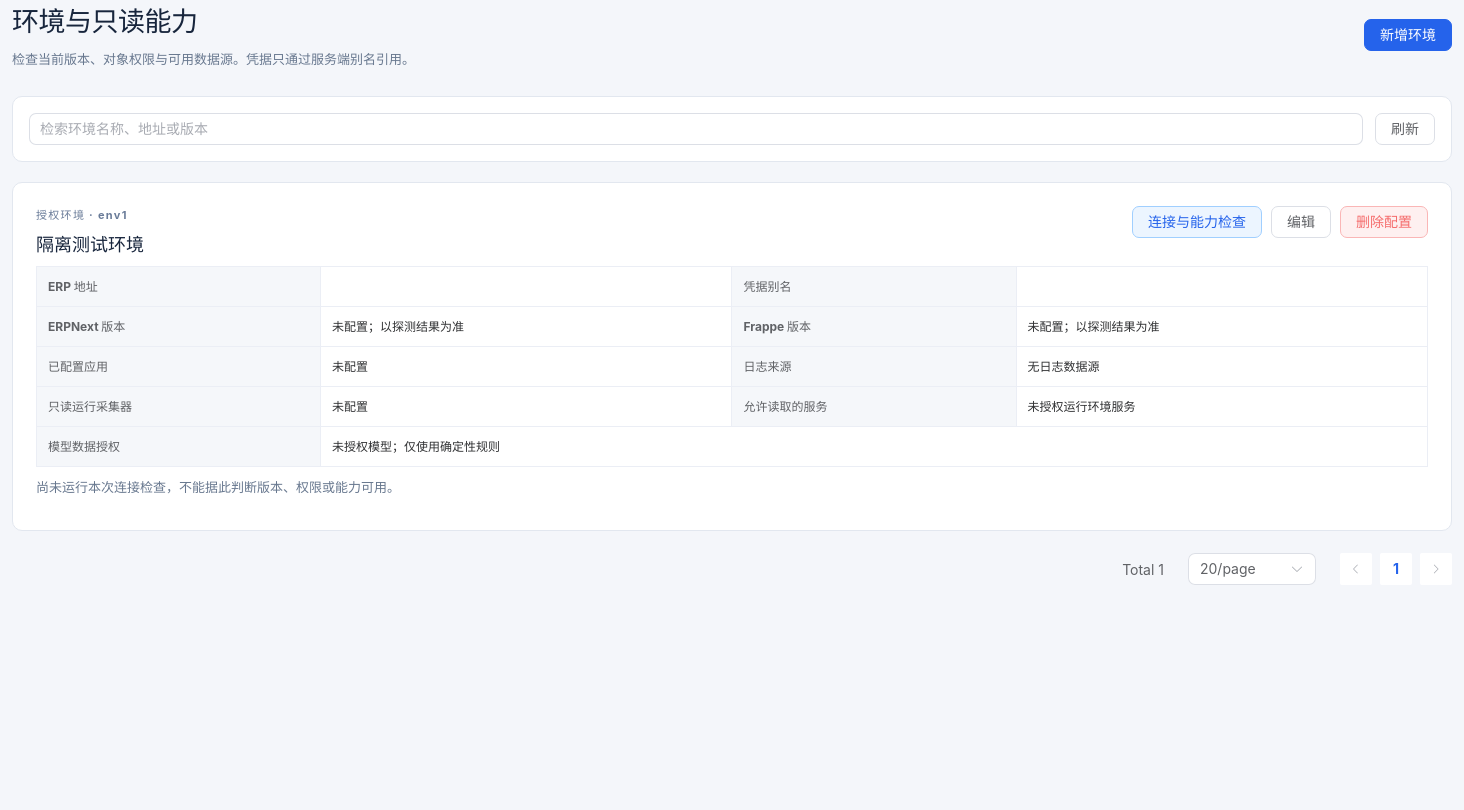
Test case: three list workspaces with mocked HTTP › retains an environment check 403 separately from environment configuration
Click the button "连接与能力检查". click: (1197, 222)
box: [1132,206,1262,238]
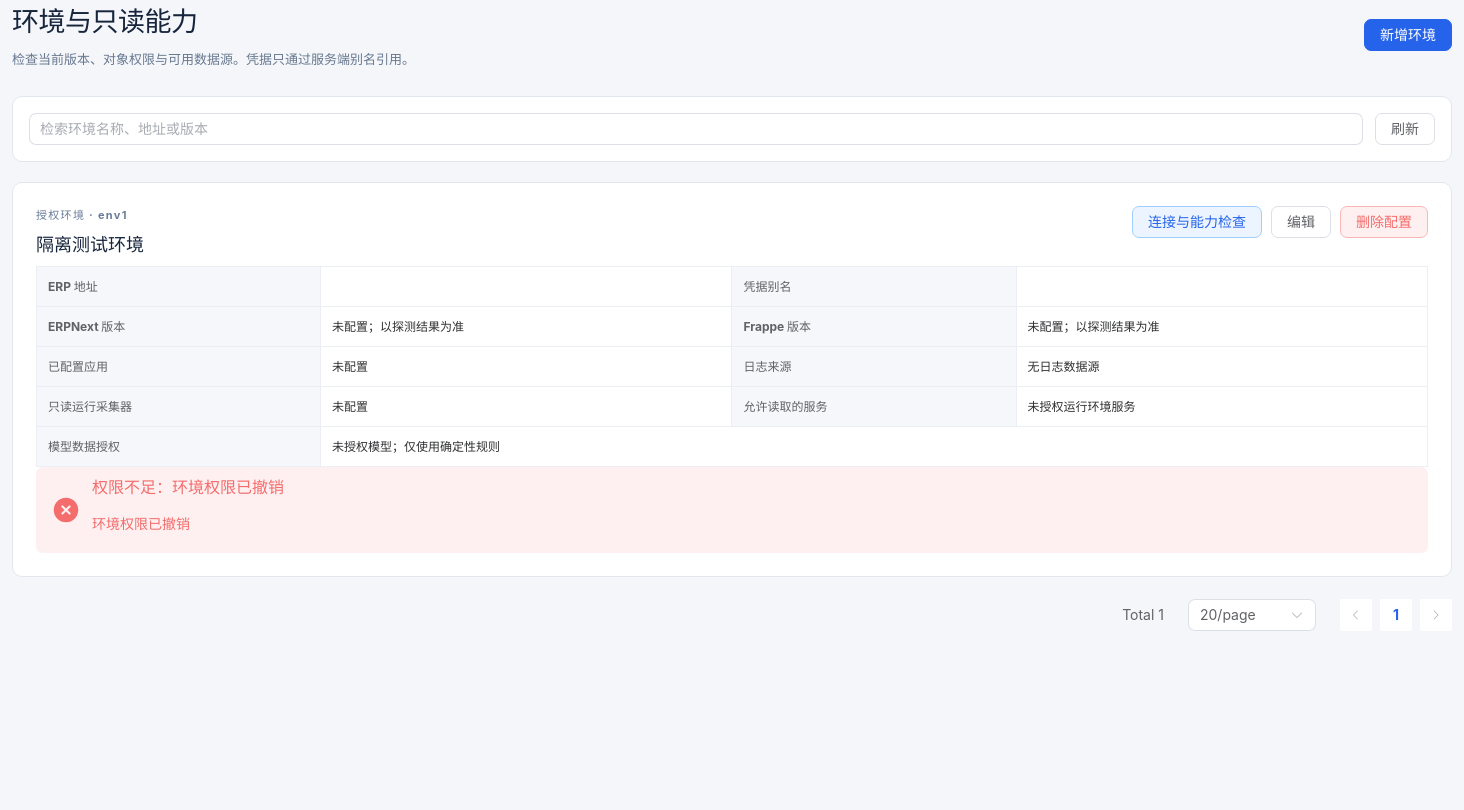
expect the text "隔离测试环境" is shown: met, box [36,230,144,256]
expect the text "权限不足：环境权限已撤销" is shown: met, box [92,475,284,499]
